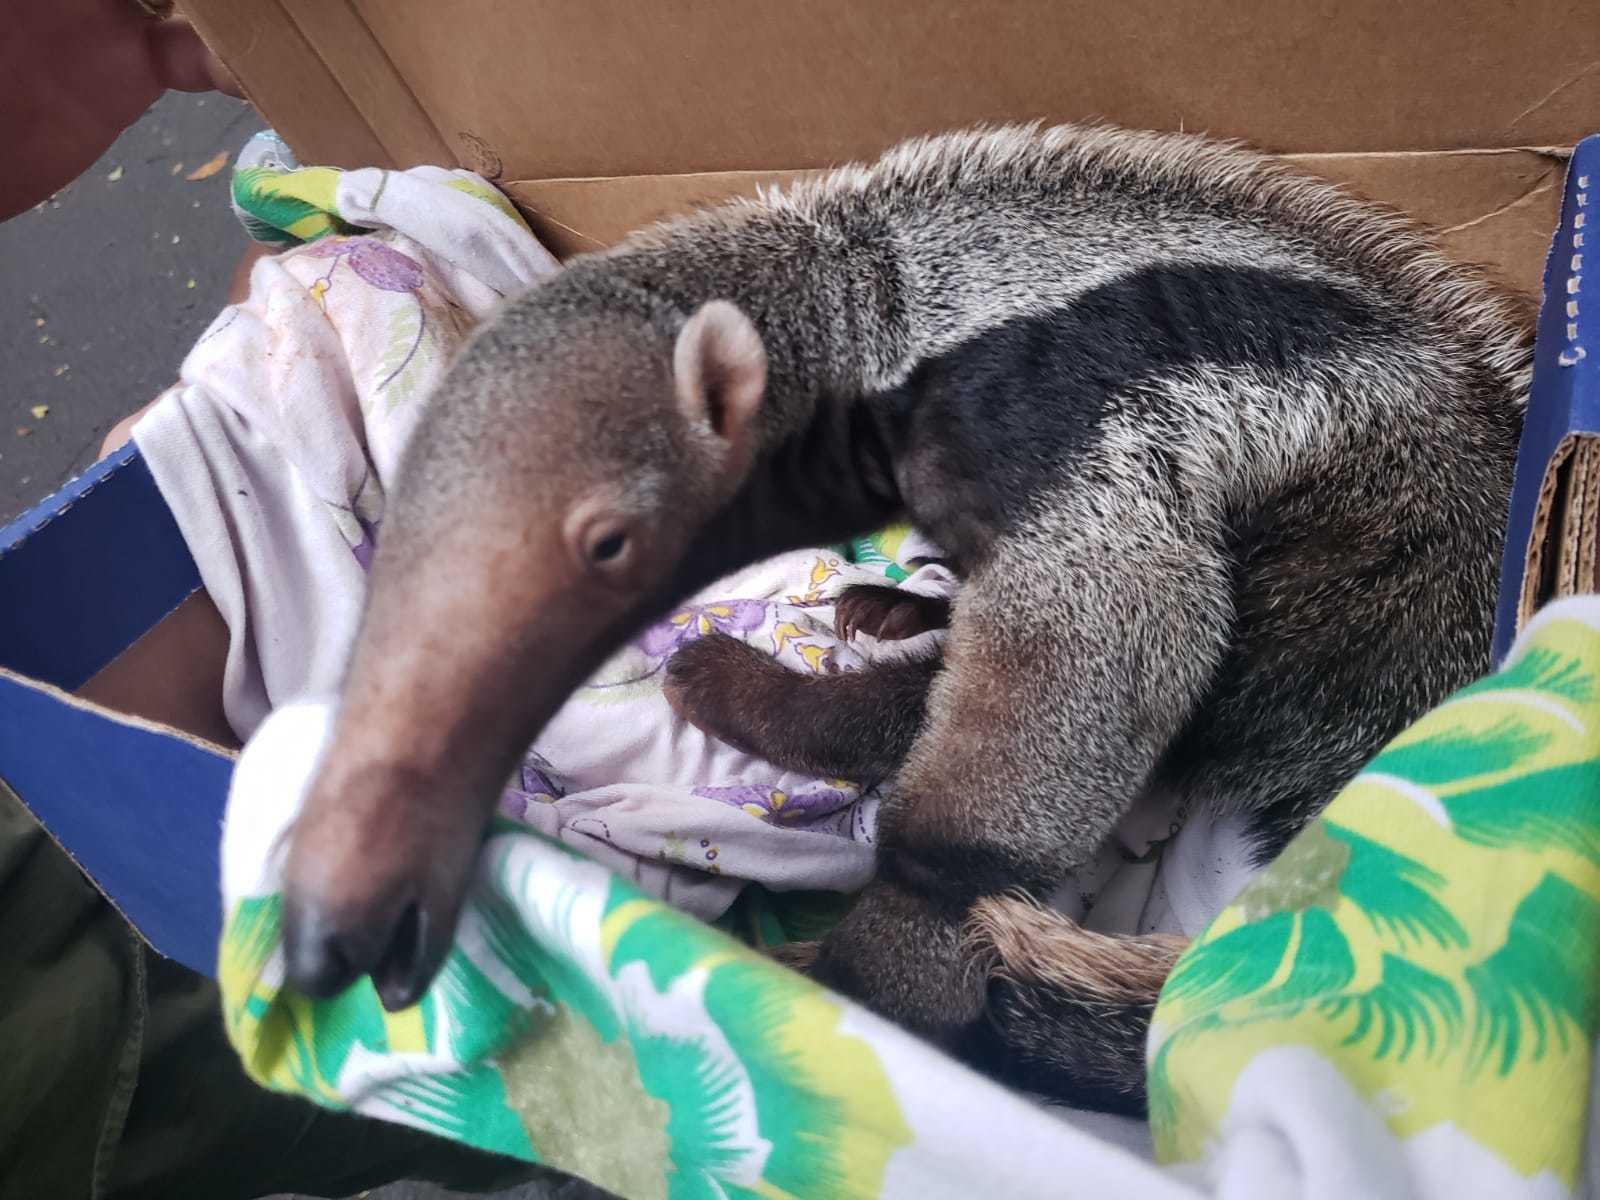TamanduaBandeira: (261, 113, 1514, 1059)
